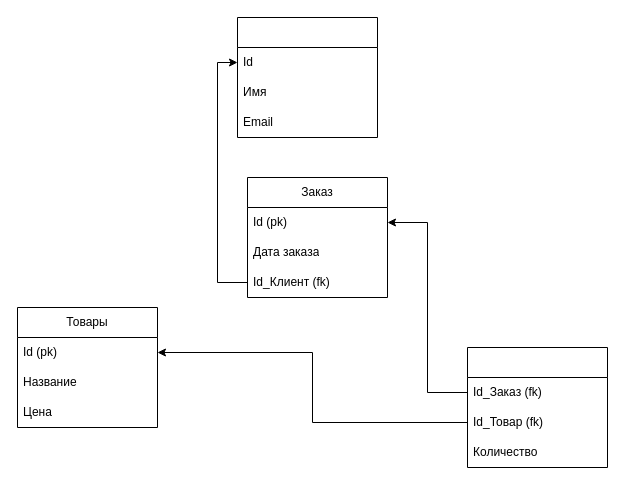
This 625x485 diagram has some shape labels left out. Each missing label, with the box of its shape:
Клиент: (236, 16, 378, 138)
Товар в заказе: (466, 346, 608, 468)
